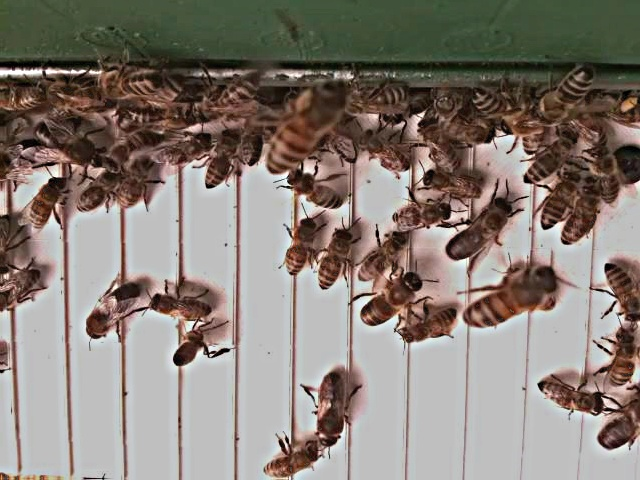Drone: (441, 196, 513, 266), (356, 272, 425, 331), (82, 281, 142, 345), (310, 371, 349, 452)
Worker: (461, 271, 549, 331), (354, 231, 408, 285), (522, 133, 573, 189), (282, 168, 345, 213), (558, 184, 599, 252), (534, 379, 603, 419), (415, 117, 462, 175), (599, 262, 640, 328), (314, 225, 353, 293), (20, 178, 67, 233), (114, 156, 157, 216), (357, 129, 411, 176), (538, 172, 578, 233), (201, 129, 237, 196), (399, 309, 458, 349), (419, 169, 485, 204), (72, 167, 118, 217), (282, 216, 316, 281), (603, 329, 638, 392), (146, 292, 217, 322), (262, 445, 322, 480), (389, 201, 452, 232)
